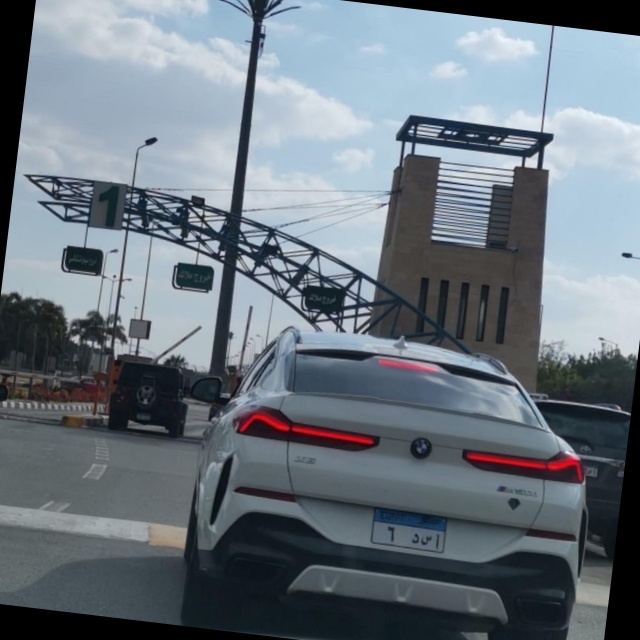License Plate: (368, 504, 451, 556)
